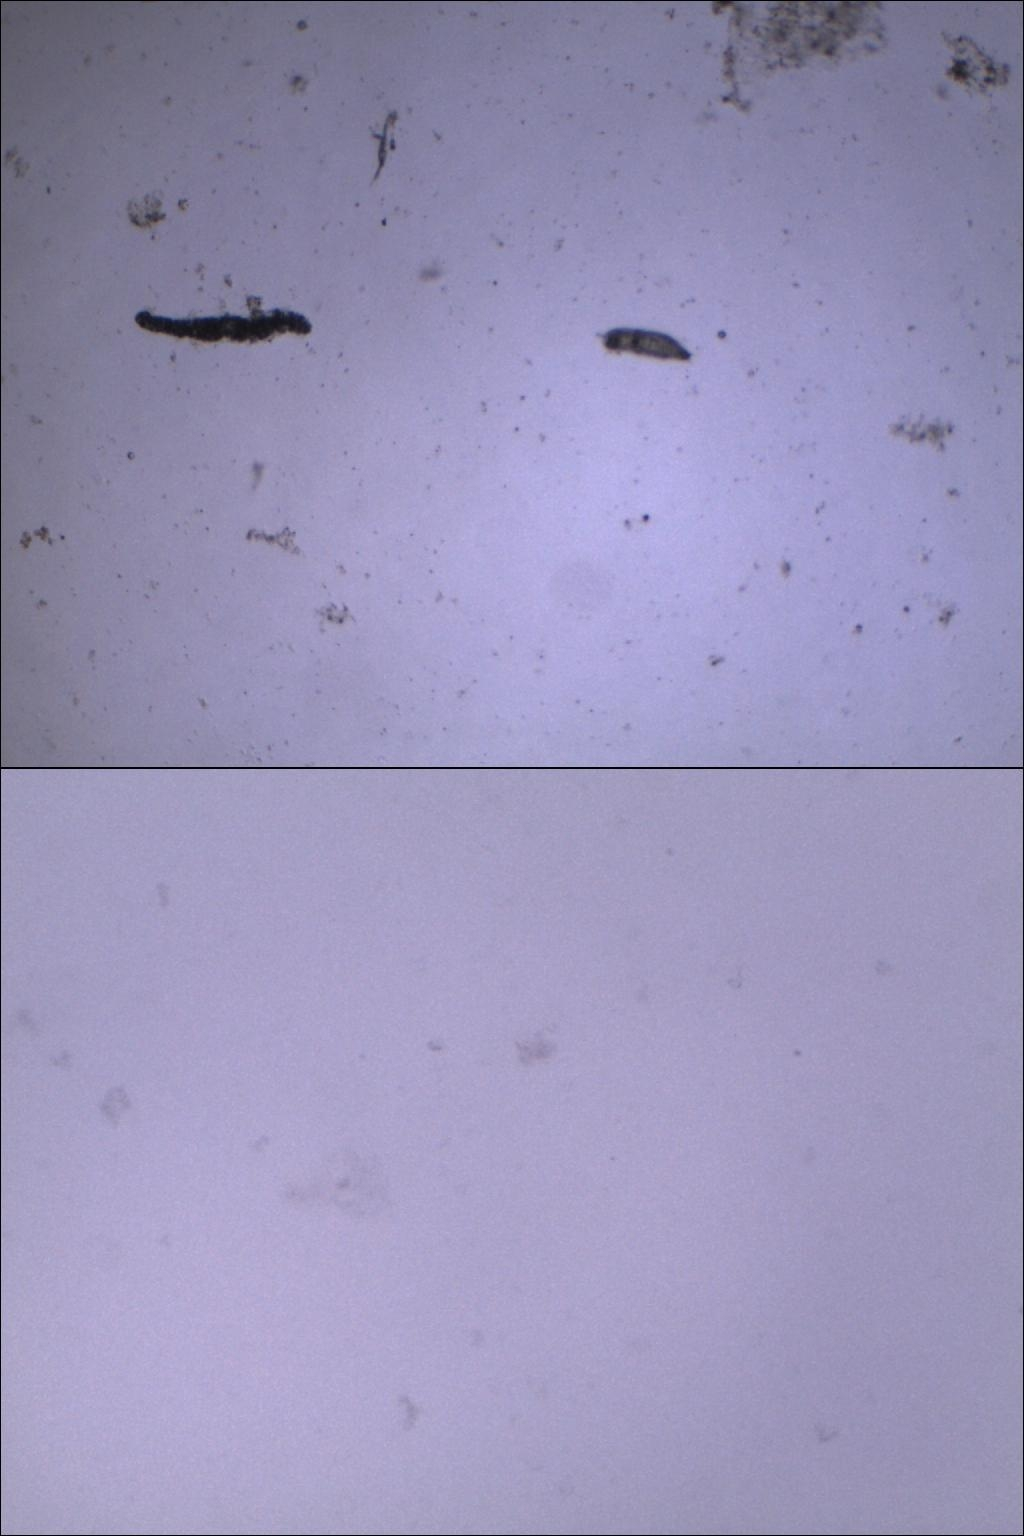N.Fowleri Amoeba: (258, 1128, 414, 1239)
Proteus Amoeba: (119, 287, 327, 367)
